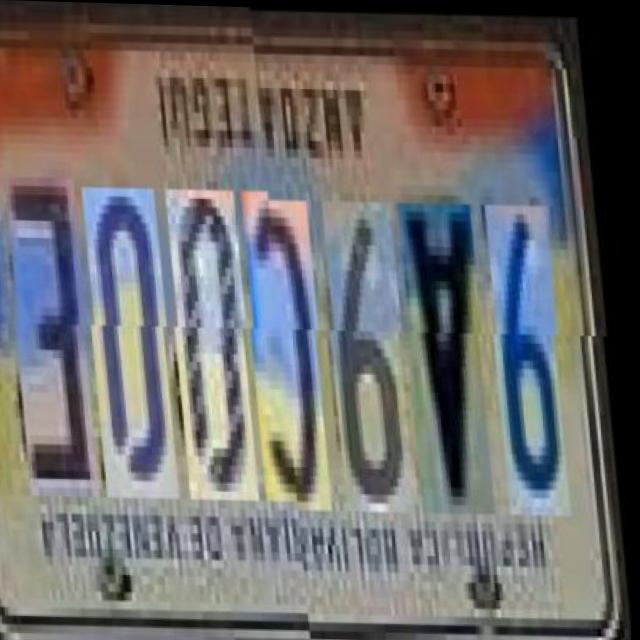0: (86, 186, 188, 497), (169, 188, 268, 499)
9: (325, 191, 424, 502), (488, 193, 579, 505)
a: (400, 191, 503, 503)
c: (245, 189, 341, 500)
e: (9, 175, 108, 496)
